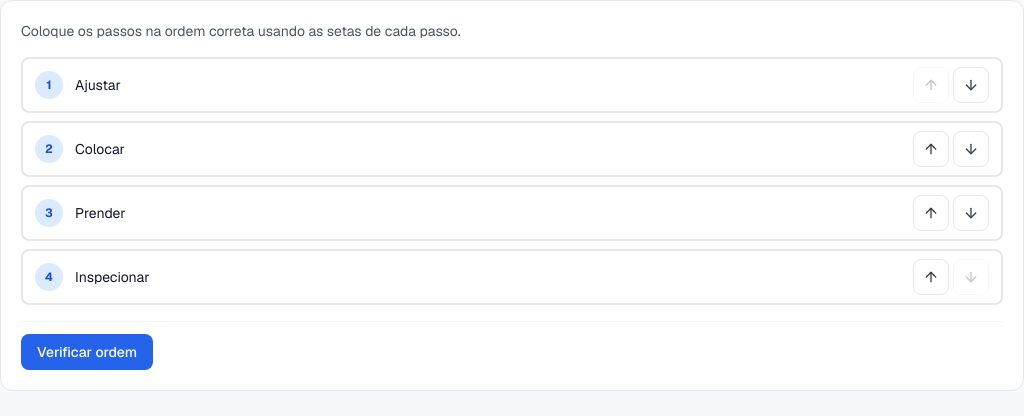
it: SequenceBlock › checks the order, shows the right positions and records the attempt
What coordinates should you click on to do the following:
click the button named "Mover “Inspecionar” para cima"
I would click on:
 (931, 277)
Its box is left=913, top=259, right=949, bottom=295.
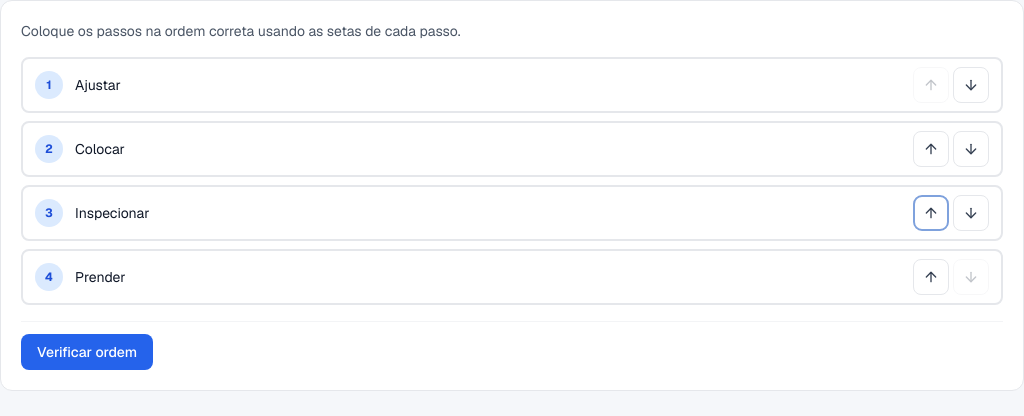
What coordinates should you click on to do the following:
click the button "Verificar ordem"
I would click on:
 (87, 352)
Its box is left=21, top=334, right=153, bottom=370.
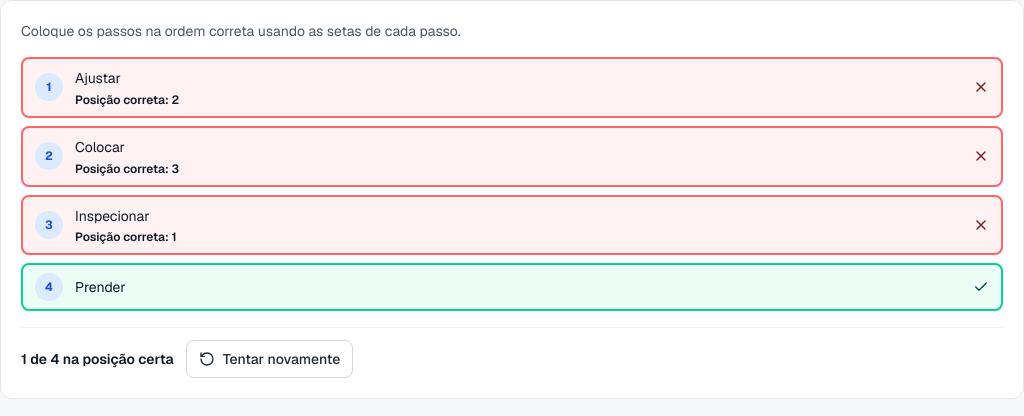
Now the text "Posição correta: 2" is shown 3 times, box left=75, top=92, right=179, bottom=108; left=75, top=160, right=179, bottom=176; left=75, top=229, right=176, bottom=245
Now the icon named "Posição certa" is shown, box left=973, top=279, right=989, bottom=295
